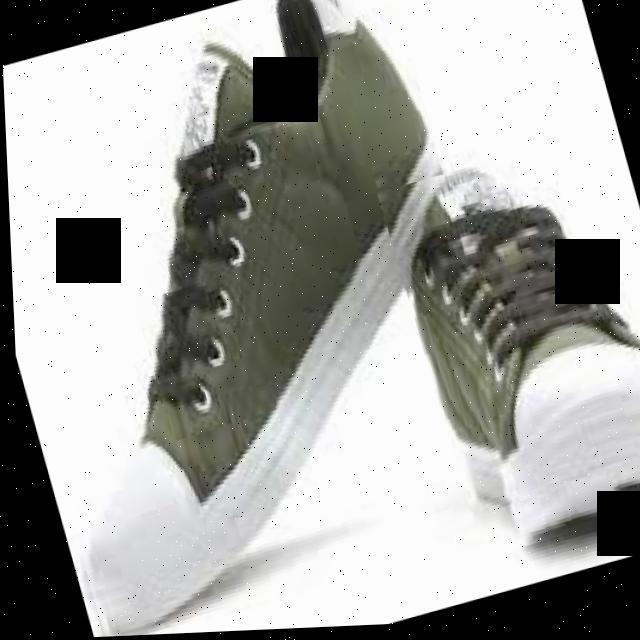shoe: (0, 0, 537, 640), (372, 130, 640, 567)
